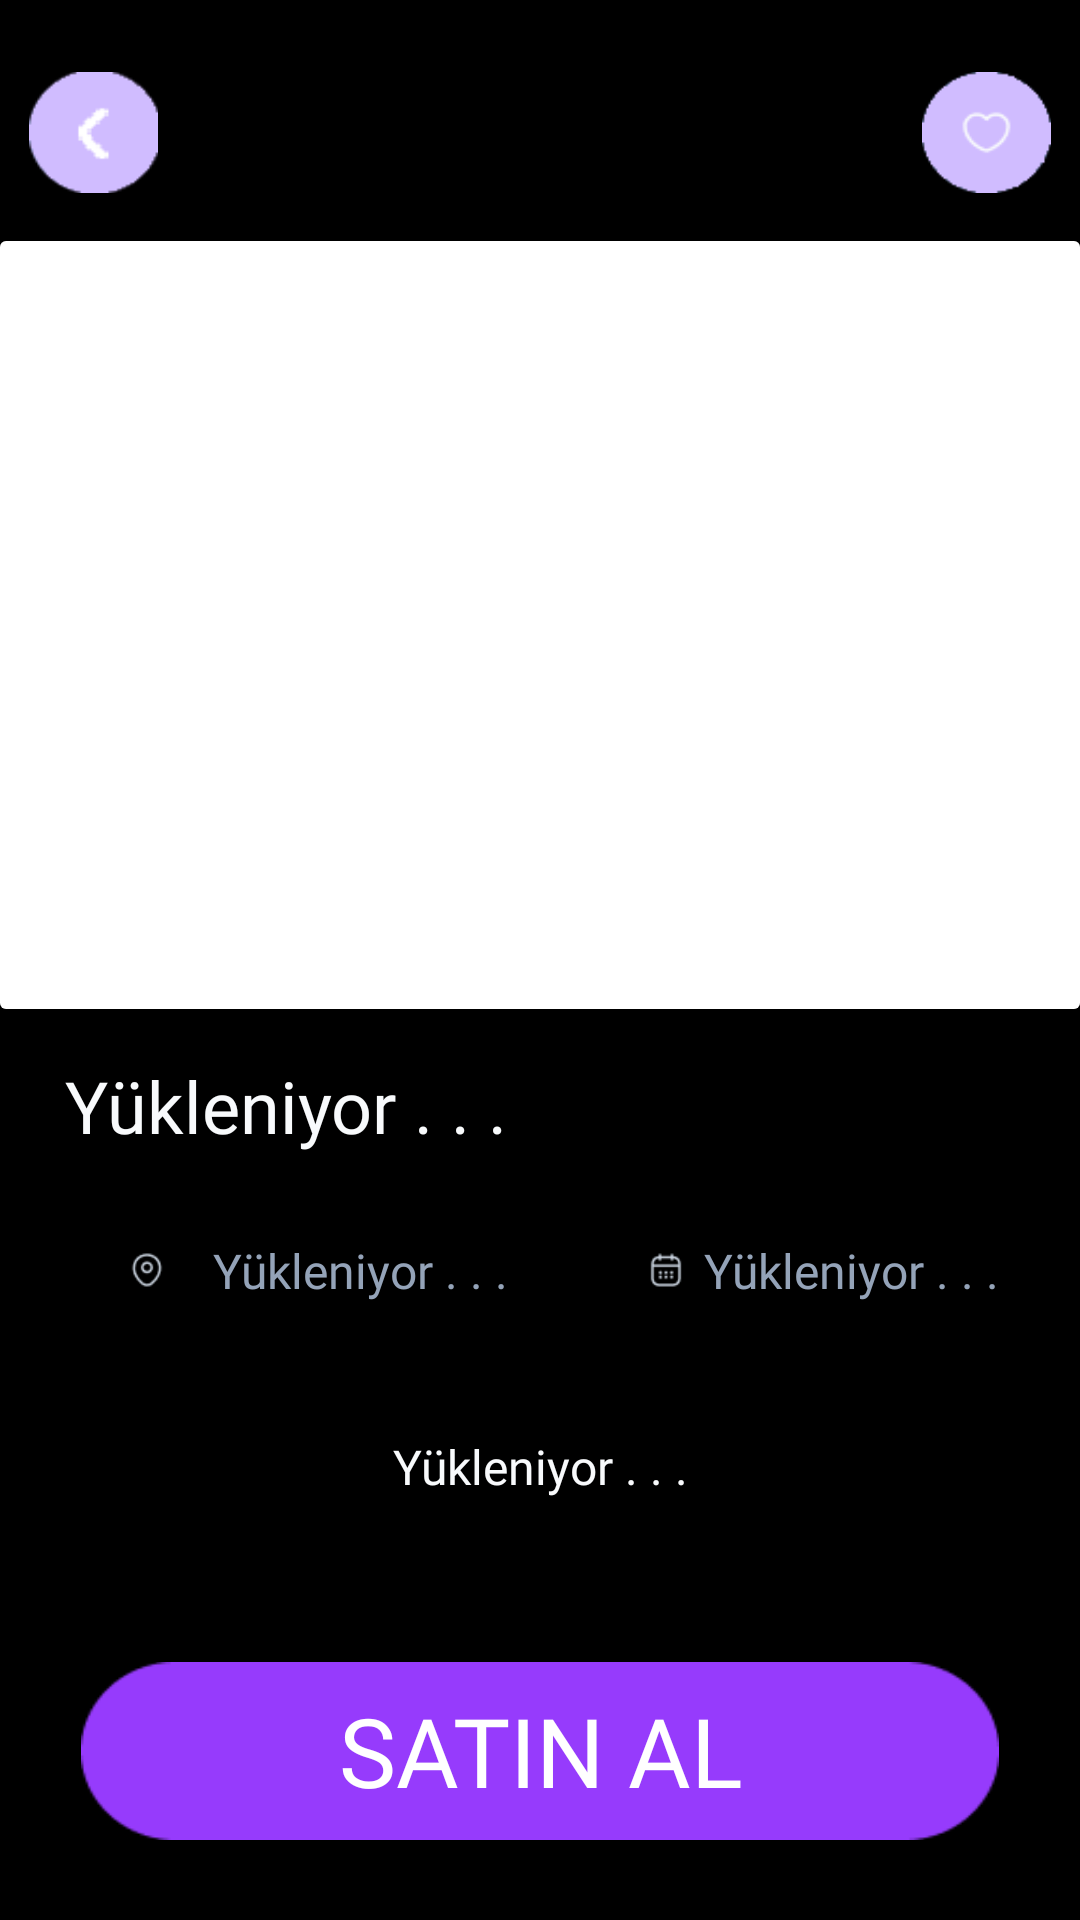

Point at icon controls on the screen. Image size 1080x1920, points as (x=x, y=y).
back: (x=93, y=132)
fav empty: (x=986, y=132)
